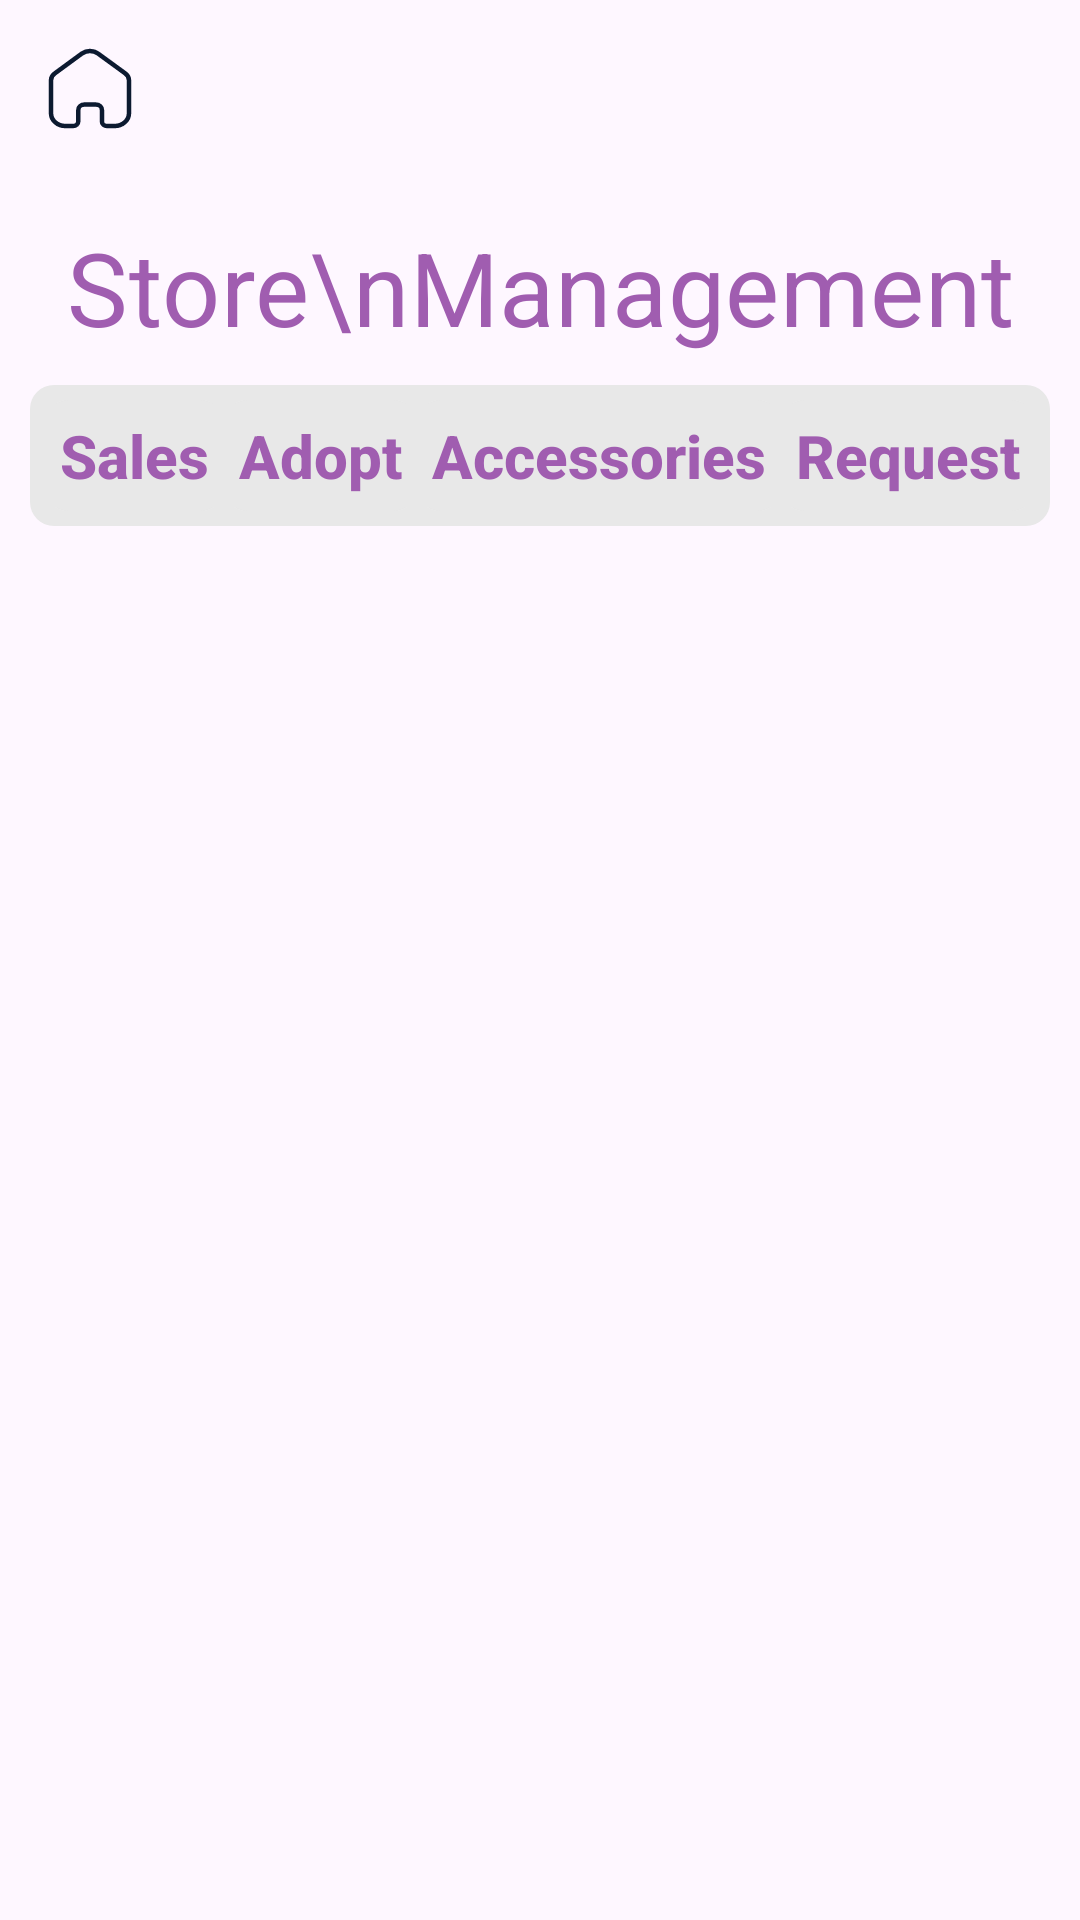

Point at icon controls on the screen. Image size 1080*1920, points as [x,y].
home: [90,88]
